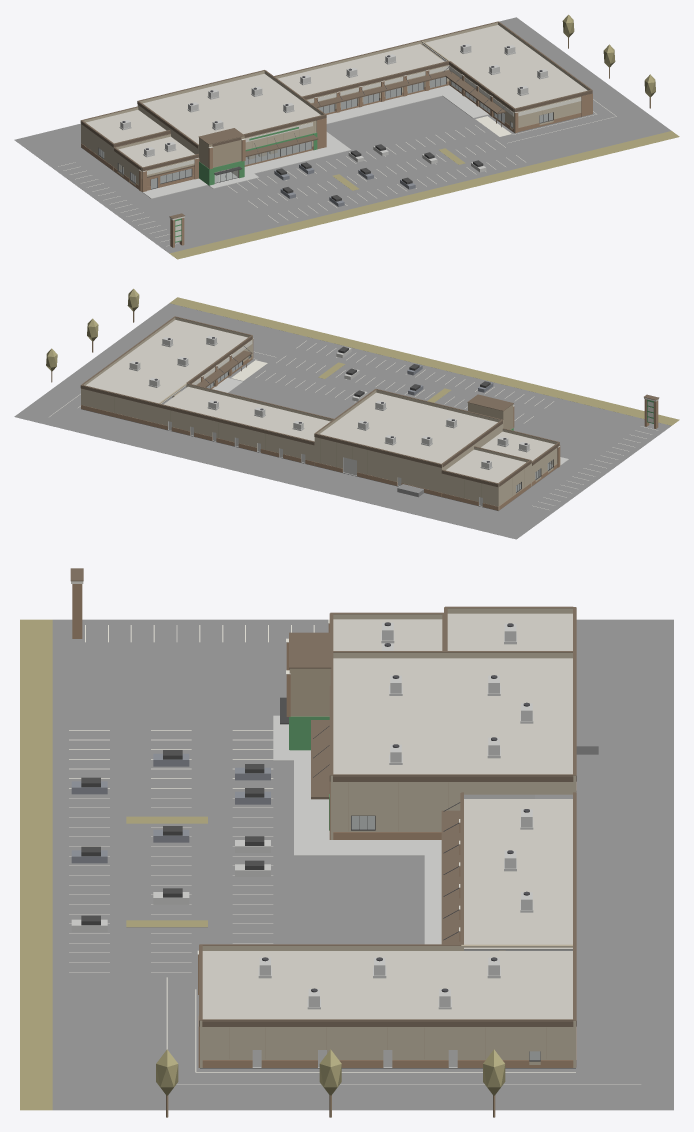
File: clay-anchored-plaza-supermarket-clay-v007.glb
3 views of the same model, one above another, from view 1: azimuth 30°, elevation 25°; view 2: azimuth 150°, elevation 25°; view 3: azimuth 270°, elevation 25° (orthographic). The views are drawn at different scales.
Parts seen in each view (by area): view 1: CLAY_FOUNDATION, CLAY_ROOF, CLAY_CAP, CLAY_WALL, CLAY_PALE, CLAY_PLANTING, CLAY_CREAM, CLAY_STONE, CLAY_GLASS, CLAY_TRIM, CLAY_TAN, CLAY_GREEN (+1 smaller); view 2: CLAY_FOUNDATION, CLAY_ROOF, CLAY_WALL, CLAY_PLANTING, CLAY_CAP, CLAY_PALE, CLAY_STONE, CLAY_CREAM, CLAY_TAN, CLAY_TRIM; view 3: CLAY_FOUNDATION, CLAY_ROOF, CLAY_WALL, CLAY_PLANTING, CLAY_CAP, CLAY_PALE, CLAY_STONE, CLAY_CREAM, CLAY_TRIM, CLAY_CAR, CLAY_TAN, CLAY_GREEN.
Boxes of the visible parts, bbox=[...] form: CLAY_FOUNDATION: bbox=[14, 17, 671, 253]; CLAY_ROOF: bbox=[86, 25, 587, 166]; CLAY_CAP: bbox=[80, 21, 592, 218]; CLAY_WALL: bbox=[81, 22, 589, 185]; CLAY_PALE: bbox=[119, 44, 548, 198]; CLAY_PLANTING: bbox=[169, 14, 679, 259]; CLAY_CREAM: bbox=[58, 65, 616, 246]; CLAY_STONE: bbox=[81, 70, 592, 247]; CLAY_GLASS: bbox=[99, 77, 552, 188]; CLAY_TRIM: bbox=[98, 77, 553, 201]; CLAY_TAN: bbox=[199, 136, 277, 177]; CLAY_GREEN: bbox=[175, 127, 317, 242]; CLAY_FOUNDATION: bbox=[14, 303, 671, 539]; CLAY_ROOF: bbox=[86, 320, 554, 482]; CLAY_WALL: bbox=[81, 317, 559, 510]; CLAY_PLANTING: bbox=[46, 288, 679, 425]; CLAY_CAP: bbox=[80, 316, 659, 487]; CLAY_PALE: bbox=[129, 335, 568, 506]; CLAY_STONE: bbox=[81, 339, 658, 510]; CLAY_CREAM: bbox=[49, 338, 658, 509]; CLAY_TAN: bbox=[172, 391, 513, 429]; CLAY_TRIM: bbox=[210, 346, 553, 492]; CLAY_FOUNDATION: bbox=[52, 619, 673, 1110]; CLAY_ROOF: bbox=[202, 613, 572, 1019]; CLAY_WALL: bbox=[200, 608, 575, 1067]; CLAY_PLANTING: bbox=[20, 619, 505, 1110]; CLAY_CAP: bbox=[70, 568, 576, 1026]; CLAY_PALE: bbox=[71, 622, 534, 1067]; CLAY_STONE: bbox=[72, 584, 576, 1067]; CLAY_CREAM: bbox=[69, 581, 640, 1084]; CLAY_TRIM: bbox=[81, 697, 540, 1061]; CLAY_CAR: bbox=[71, 753, 270, 863]; CLAY_TAN: bbox=[289, 668, 505, 950]; CLAY_GREEN: bbox=[289, 716, 329, 830].
Bounding box in the file's own units: 145 × 11.3 × 80.
